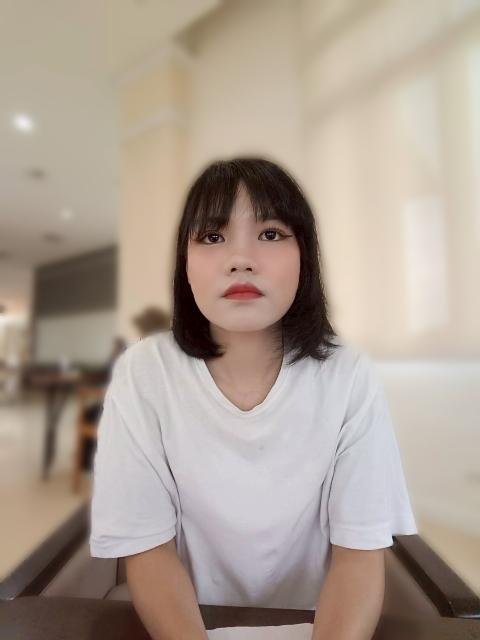fokus: (185, 172, 304, 330)
